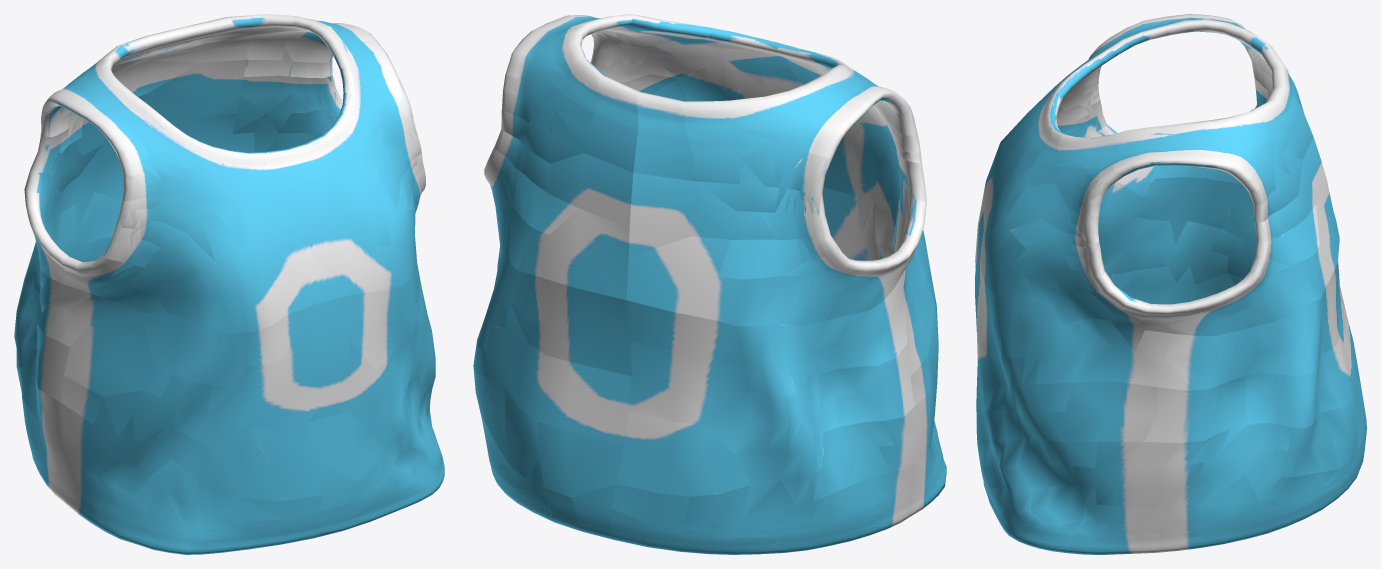
File: Warmup-Blue-Snow.glb
3 renders of one model, left to right at view 1: azimuth 30°, elevation 25°; view 2: azimuth 150°, elevation 25°; view 3: azimuth 270°, elevation 25°, orthographic. The views are drawn at different scales.
Parts seen in each view (by area): view 1: Warmup-Blue-Snow; view 2: Warmup-Blue-Snow; view 3: Warmup-Blue-Snow.
Boxes of the visible parts, x1,y1,x2,y2 form: Warmup-Blue-Snow: (14, 14, 444, 554); Warmup-Blue-Snow: (473, 14, 946, 554); Warmup-Blue-Snow: (975, 14, 1366, 554).
Size of the model in its own units: 0.3436 by 0.364 by 0.316.
Materials: 1 (1 with a texture image).
